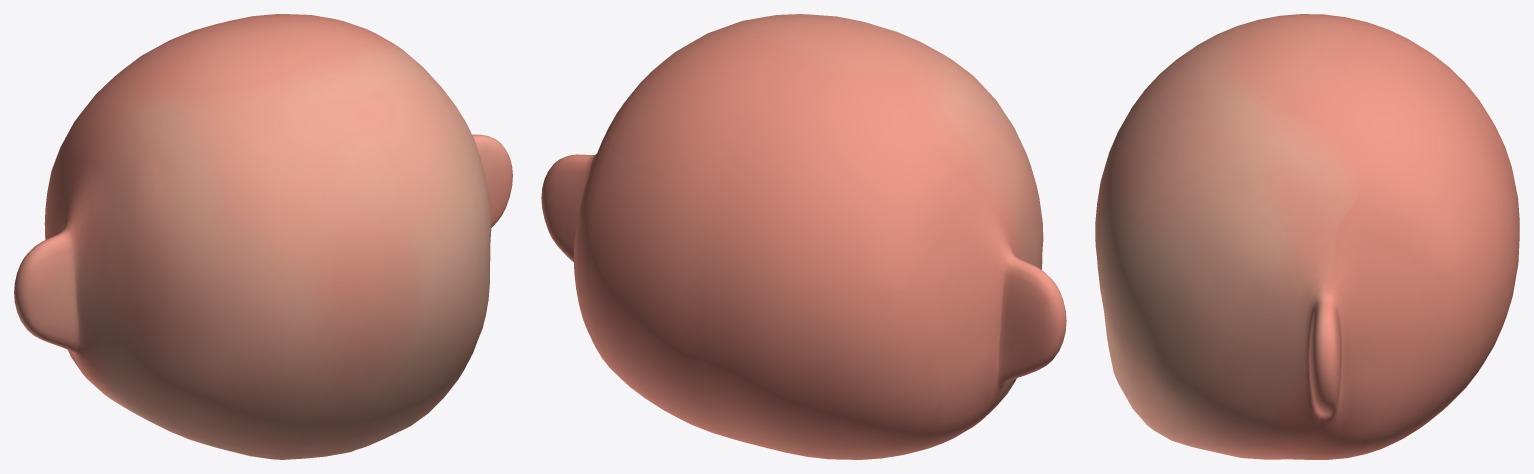
File: Head.glb
3 renders of one model, left to right at view 1: azimuth 30°, elevation 25°; view 2: azimuth 150°, elevation 25°; view 3: azimuth 270°, elevation 25°, orthographic. The views are drawn at different scales.
Parts seen in each view (by area): view 1: Head; view 2: Head; view 3: Head.
Boxes of the visible parts, box(x1,y1,x2,y2) form: Head: box(14, 14, 512, 459); Head: box(541, 14, 1066, 459); Head: box(1095, 14, 1519, 459).
Size of the model in its own units: 0.011 by 0.00803 by 0.008.
1 material, 1 textured.
